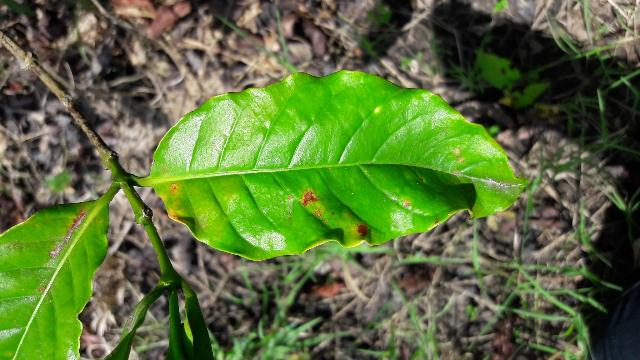rust_level_2: (153, 82, 517, 255)
